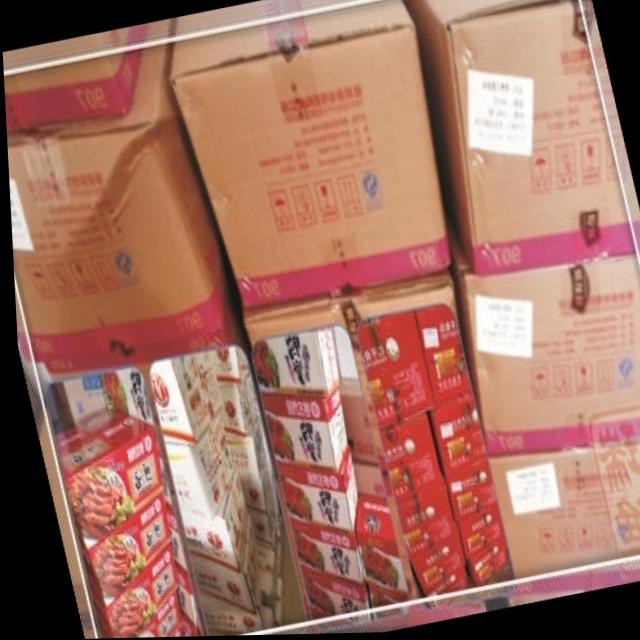box: (168, 0, 449, 311), (2, 18, 229, 373), (403, 0, 640, 277), (443, 219, 640, 458), (482, 443, 640, 609), (50, 406, 158, 554), (75, 491, 167, 607), (355, 313, 430, 433), (249, 329, 336, 424), (87, 548, 171, 639), (158, 416, 231, 518), (173, 470, 244, 574), (185, 515, 255, 613), (146, 353, 220, 445), (271, 450, 353, 530), (409, 307, 469, 411), (259, 403, 343, 474), (349, 494, 401, 600), (397, 513, 462, 597), (375, 415, 434, 506), (283, 518, 357, 587), (424, 395, 482, 477), (391, 470, 446, 540), (294, 567, 363, 621), (95, 365, 149, 429), (193, 585, 258, 637), (231, 466, 272, 548), (46, 374, 103, 427), (440, 460, 491, 519), (449, 506, 498, 567), (336, 388, 371, 468), (118, 591, 175, 638), (221, 419, 263, 477), (212, 379, 252, 437), (462, 536, 504, 589), (356, 576, 402, 610), (204, 347, 244, 385), (346, 460, 380, 504), (252, 544, 272, 607), (417, 572, 463, 597), (162, 623, 175, 638)
